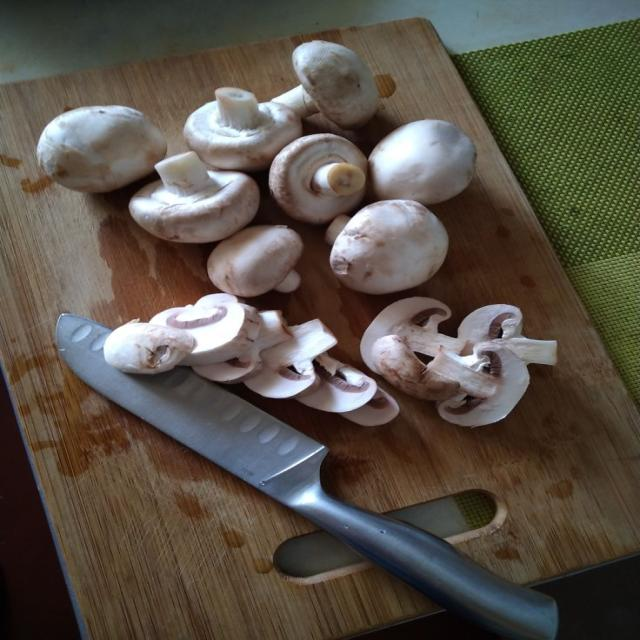champignon mushrooms: (129, 152, 259, 242), (327, 200, 448, 294), (37, 106, 166, 192), (184, 88, 301, 170), (274, 41, 378, 129), (369, 120, 475, 205), (269, 134, 366, 224), (360, 297, 468, 372), (372, 335, 498, 399), (437, 342, 529, 426), (244, 320, 337, 397), (194, 310, 291, 382), (151, 302, 260, 365), (207, 226, 303, 296), (459, 305, 557, 365), (372, 335, 459, 399), (104, 321, 194, 373), (297, 354, 376, 412), (342, 387, 399, 426)
